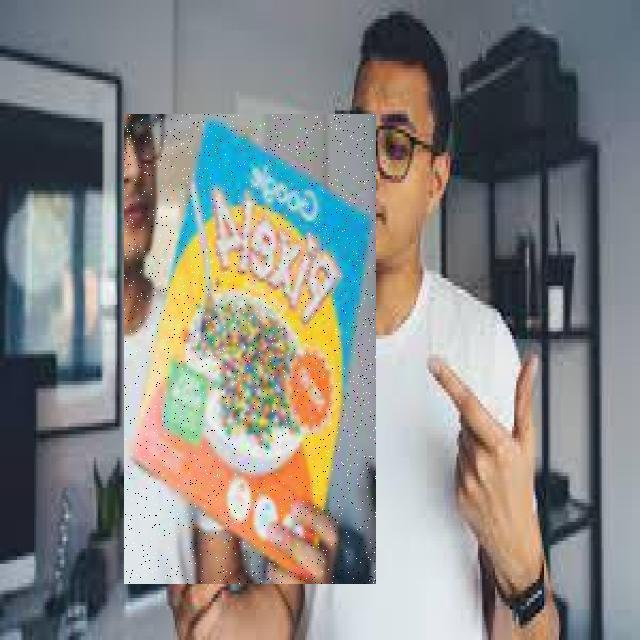Cereal: (124, 114, 376, 584)
